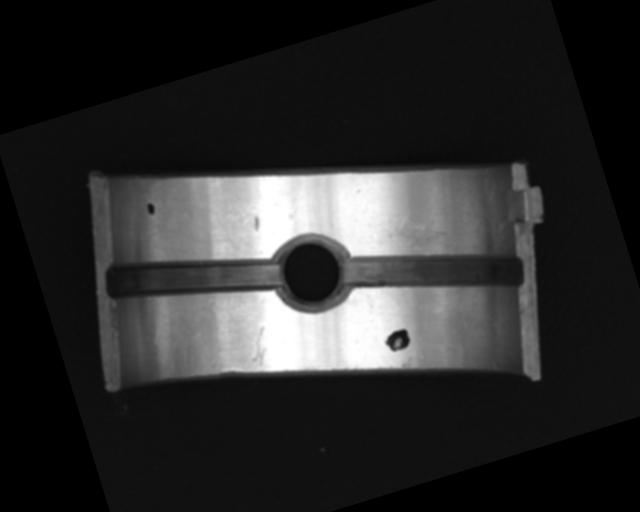blot: (380, 326, 413, 354), (144, 200, 157, 217)
bruise: (251, 215, 262, 232)
gap: (340, 209, 526, 331), (102, 220, 282, 332)
hole: (264, 226, 359, 318)
nick: (243, 324, 277, 373)
scratch: (380, 202, 456, 259)
